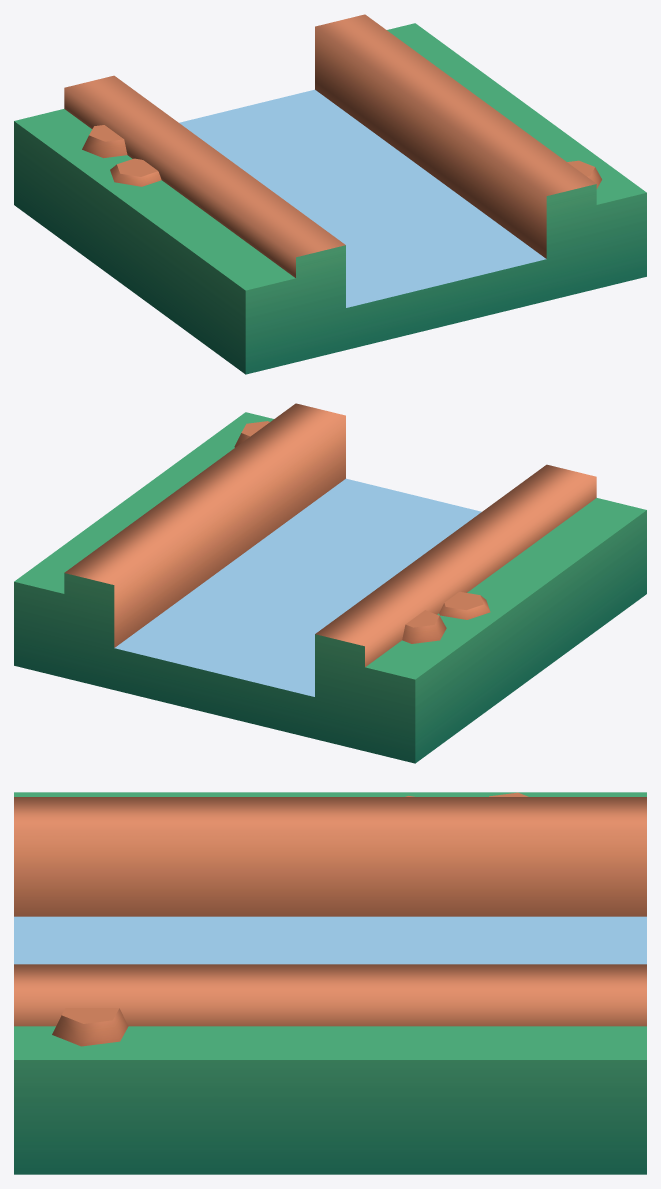
File: kenney-tower-defense-tile-river-straight.glb
3 views of the same model, one above another, from view 1: azimuth 30°, elevation 25°; view 2: azimuth 150°, elevation 25°; view 3: azimuth 270°, elevation 25° (orthographic). The views are drawn at different scales.
Parts seen in each view (by area): view 1: tile-river-straight; view 2: tile-river-straight; view 3: tile-river-straight.
Part boxes in pixels (left/top/right/bottom): tile-river-straight: left=14, top=14, right=646, bottom=374; tile-river-straight: left=14, top=403, right=646, bottom=763; tile-river-straight: left=14, top=792, right=646, bottom=1174.
Bounding box in the file's own units: 1 × 0.25 × 1.
1 material, 1 textured.
